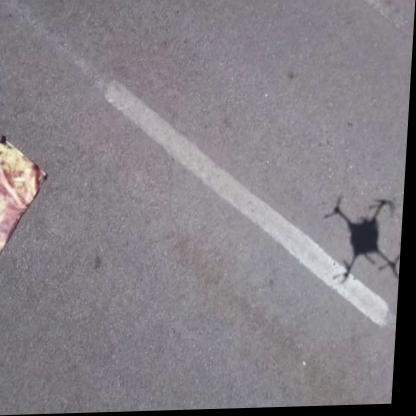fire-poster: (0, 132, 52, 275)
